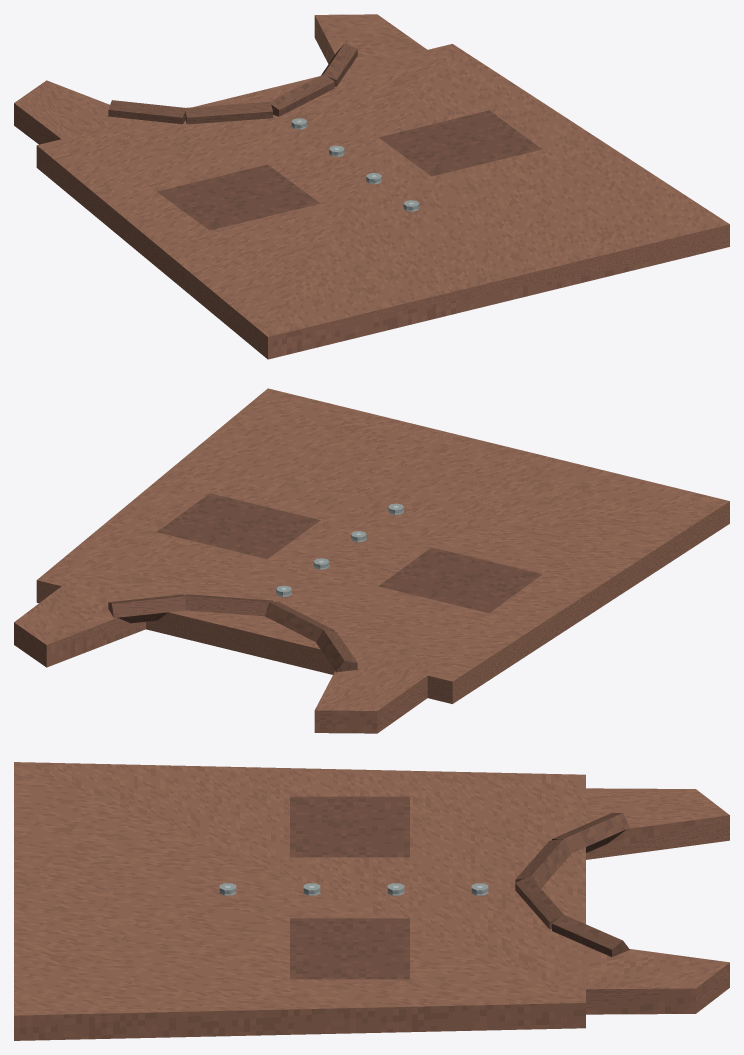
File: waistcoat.glb
The picture shows the model from 3 angles, top to bottom: view 1: azimuth 30°, elevation 25°; view 2: azimuth 150°, elevation 25°; view 3: azimuth 270°, elevation 25°; orthographic projection. The views are drawn at different scales.
Parts seen in each view (by area): view 1: block_shirt torso, block_patch pocket 1, block_patch pocket -1, block_sleeve or strap 1, block_sleeve or strap -1, block_bound collar 1, block_bound collar 0, block_bound collar 2, block_bound collar 3; view 2: block_shirt torso, block_sleeve or strap -1, block_sleeve or strap 1, block_patch pocket 1, block_patch pocket -1, block_bound collar 3, block_bound collar 2, block_bound collar 1, block_bound collar 0; view 3: block_shirt torso, block_sleeve or strap 1, block_sleeve or strap -1, block_patch pocket -1, block_patch pocket 1, block_bound collar 0, block_bound collar 3, block_bound collar 1, block_bound collar 2.
Part boxes in pixels (x1,y1,x2,y2): block_shirt torso: [36, 44, 729, 359]; block_patch pocket 1: [378, 110, 542, 176]; block_patch pocket -1: [157, 164, 320, 230]; block_sleeve or strap 1: [314, 14, 438, 79]; block_sleeve or strap -1: [14, 80, 156, 144]; block_bound collar 1: [184, 101, 272, 124]; block_bound collar 0: [108, 100, 185, 124]; block_bound collar 2: [268, 74, 334, 116]; block_bound collar 3: [321, 43, 357, 86]; block_shirt torso: [36, 388, 729, 703]; block_sleeve or strap -1: [314, 645, 438, 733]; block_sleeve or strap 1: [14, 578, 153, 667]; block_patch pocket 1: [157, 493, 320, 559]; block_patch pocket -1: [379, 547, 541, 613]; block_bound collar 3: [108, 594, 185, 623]; block_bound collar 2: [185, 594, 272, 616]; block_bound collar 1: [265, 601, 334, 641]; block_bound collar 0: [316, 629, 357, 672]; block_shirt torso: [14, 762, 585, 1040]; block_sleeve or strap 1: [560, 939, 729, 1014]; block_sleeve or strap -1: [560, 788, 729, 859]; block_patch pocket -1: [290, 796, 409, 857]; block_patch pocket 1: [290, 918, 409, 979]; block_bound collar 0: [552, 813, 629, 852]; block_bound collar 3: [552, 914, 629, 956]; block_bound collar 1: [515, 838, 571, 888]; block_bound collar 2: [515, 876, 563, 929].
Bounding box in the file's own units: 0.3 × 0.0207 × 0.358.
Materials: 1 (1 with a texture image).
